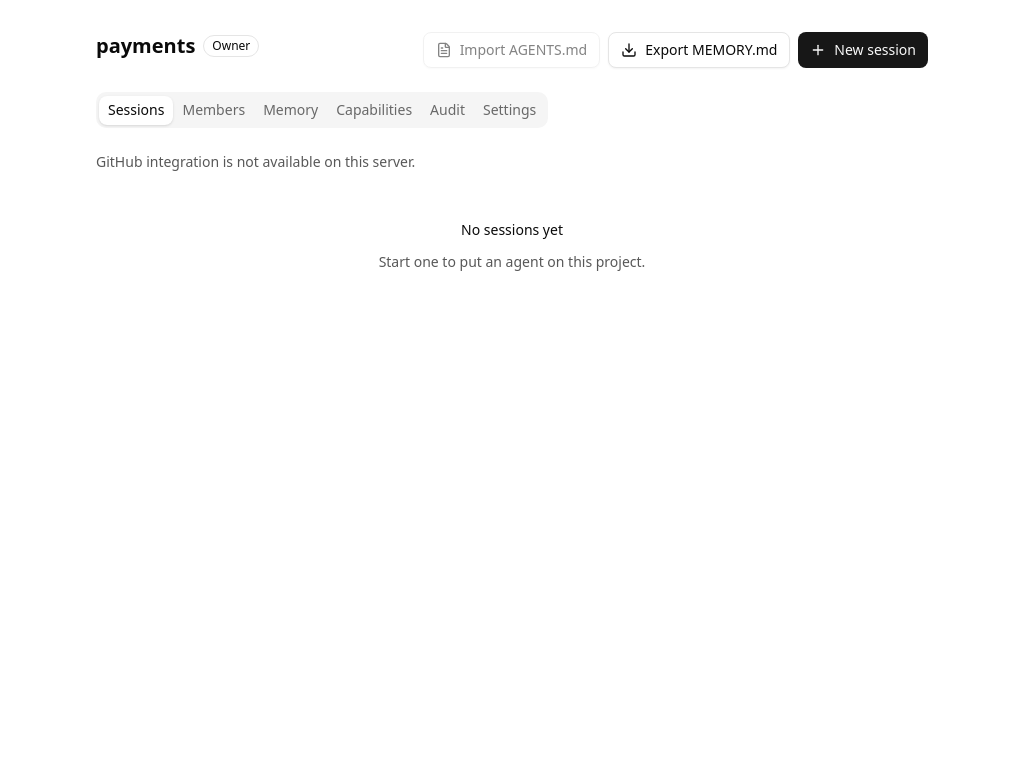
it: CapabilitiesPanel › rejects a http:// URL and a bad name before sending anything
Press the mouse on the tab "Capabilities" at (374, 110), box [327, 96, 421, 124]
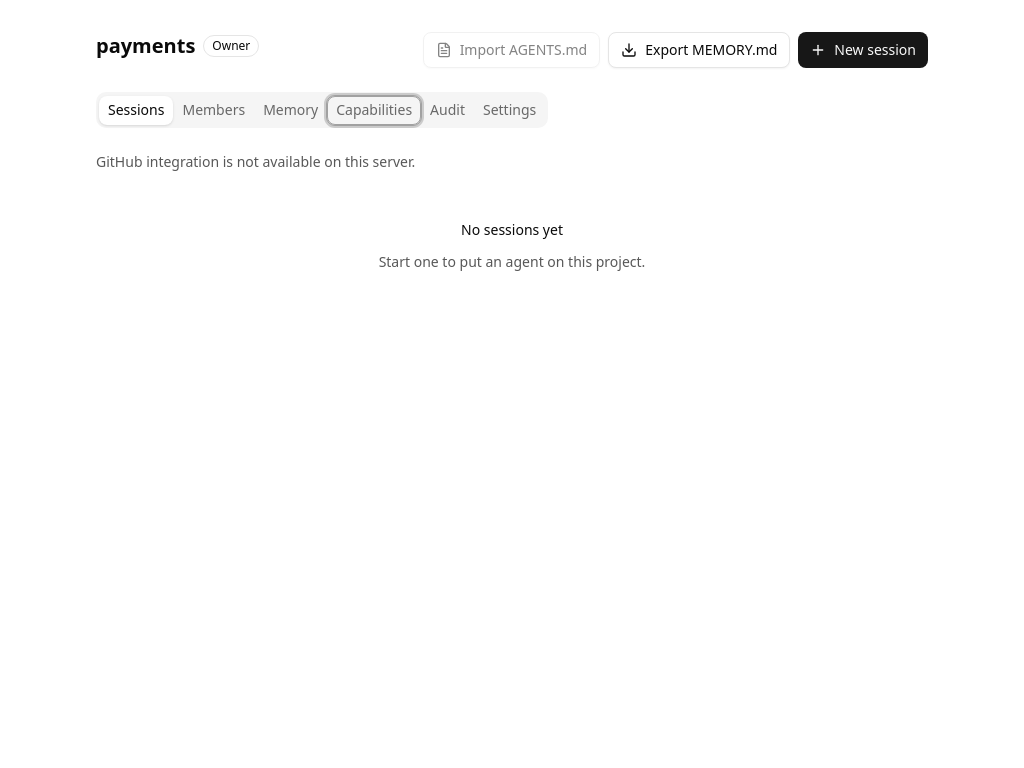
Click the tab "Capabilities" at (374, 110), box [327, 96, 421, 124]
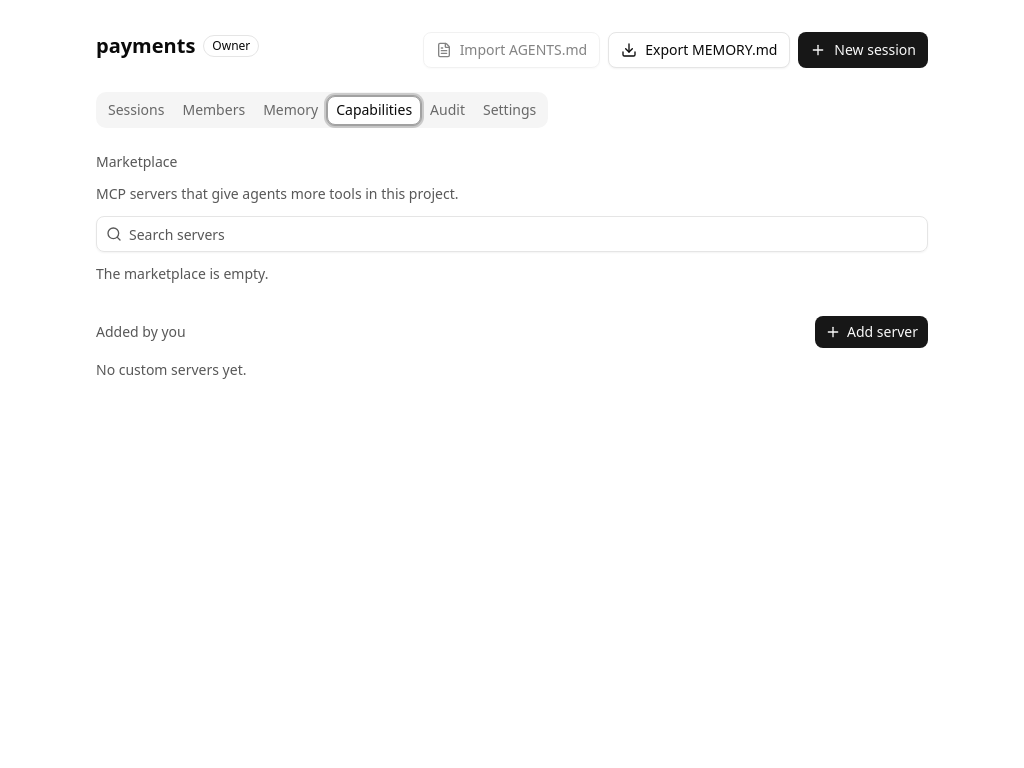
Click the button "Add server" at (872, 332), box [815, 316, 928, 348]
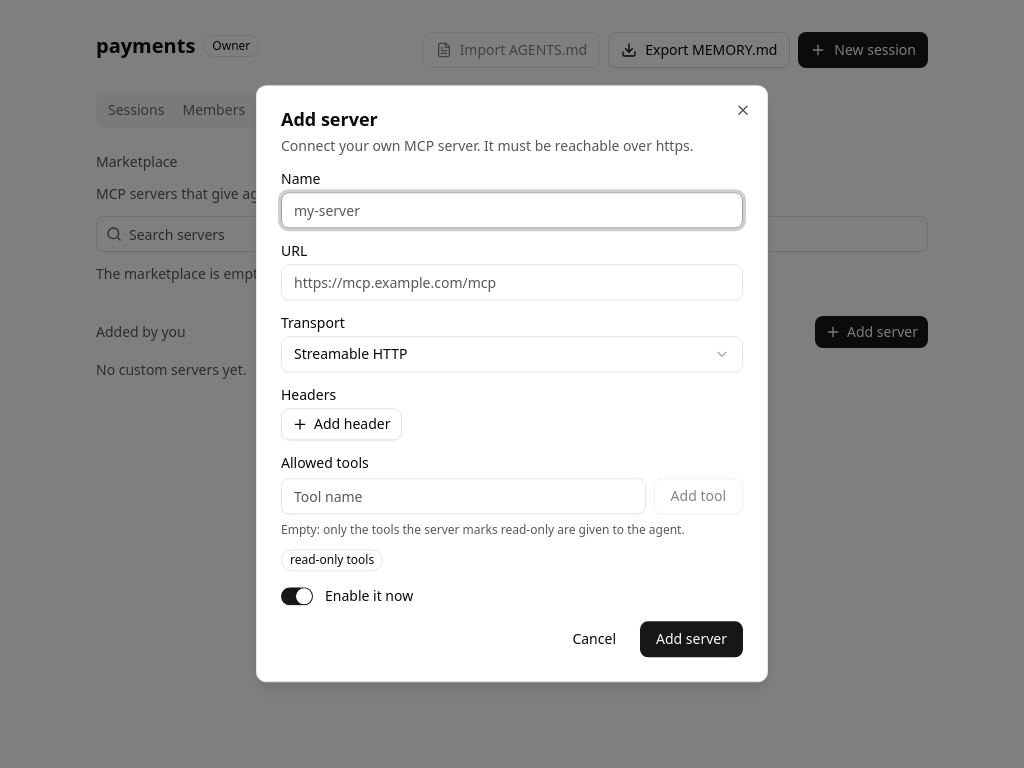
Type "Bad Name" into the field labelled "Name" at (512, 210), box [281, 192, 743, 228]
Type "http://mcp.example.com" into the field labelled "URL" at (512, 282), box [281, 264, 743, 300]
Click the button "Add server" at (692, 640), box [640, 622, 743, 658]
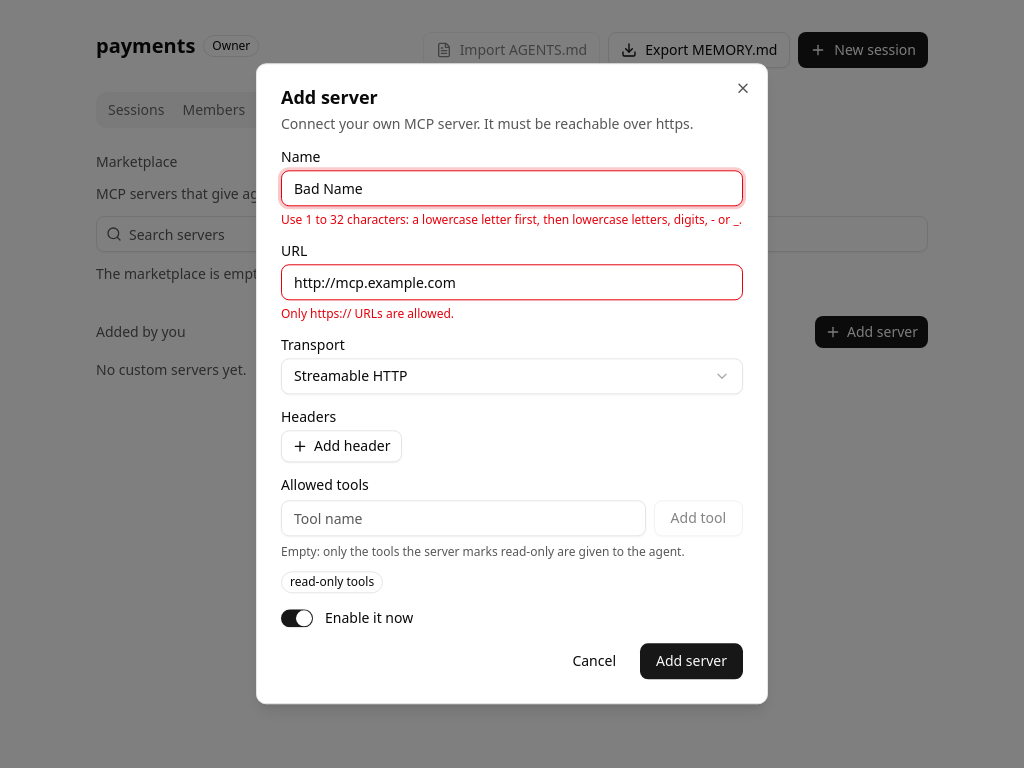
Check: the text "lowercase letter first" is shown, box [281, 211, 742, 228]
Check: the text "Only https:// URLs are allowed." is shown, box [281, 305, 454, 322]
Replace the text in the field labelled "Name" with "a__b" at (512, 188), box [281, 170, 743, 206]
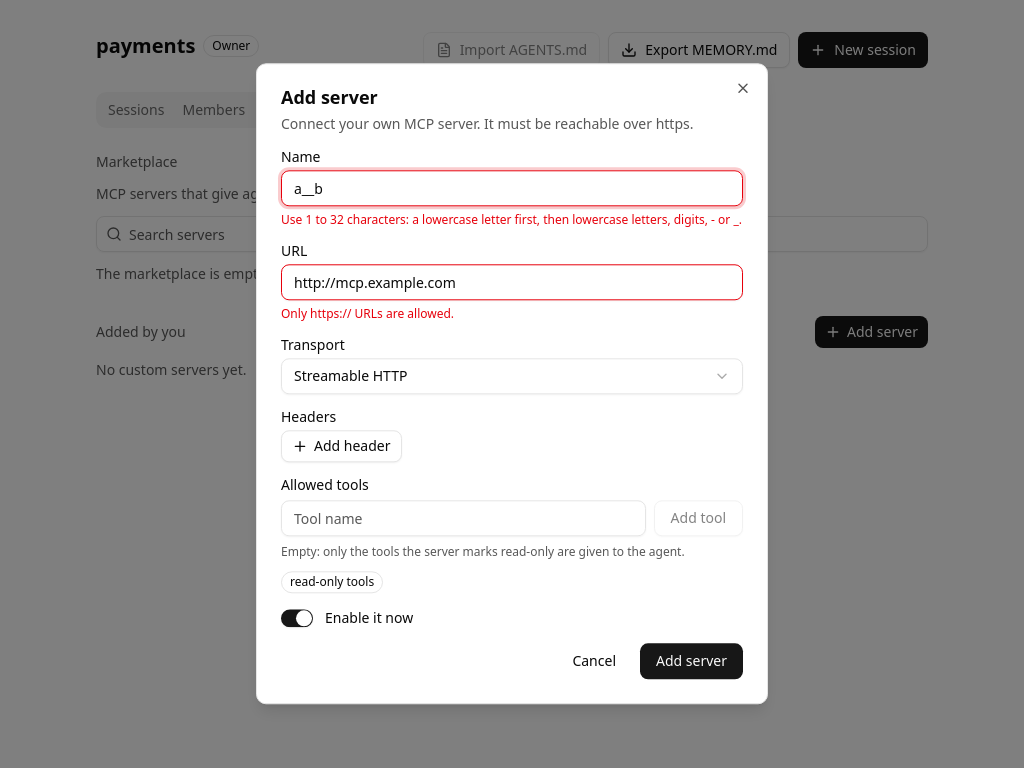
Click the button "Add server" at (692, 662), box [640, 644, 743, 680]
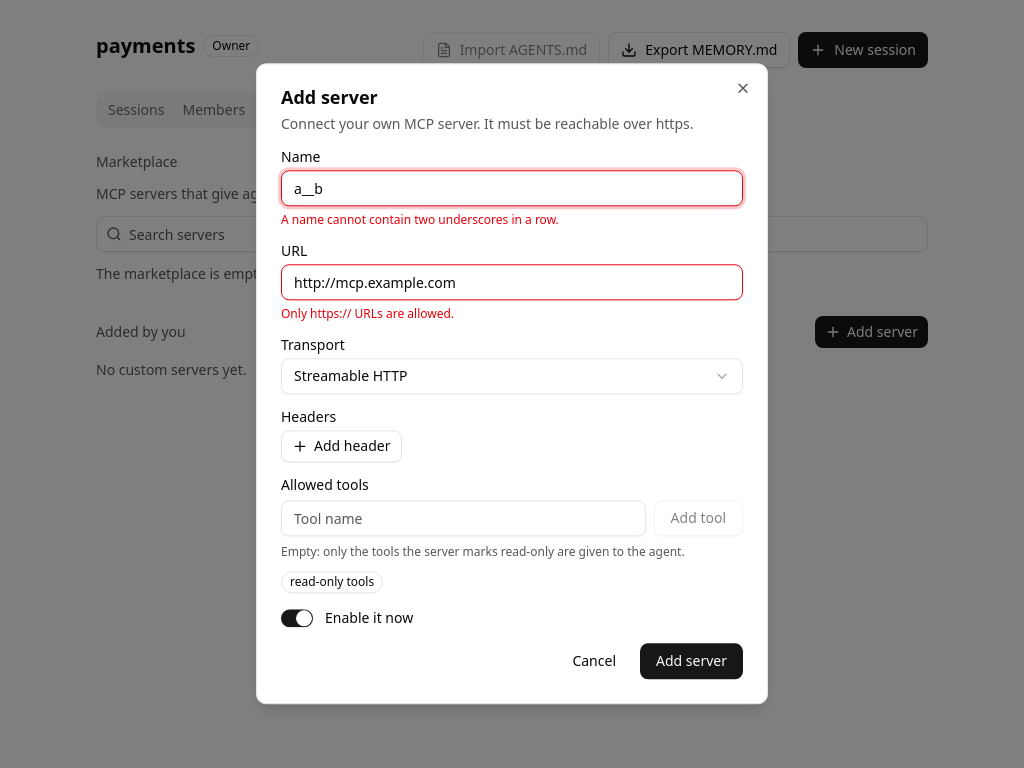
Check: the text "A name cannot contain two underscores in a row." is shown, box [281, 211, 559, 228]
